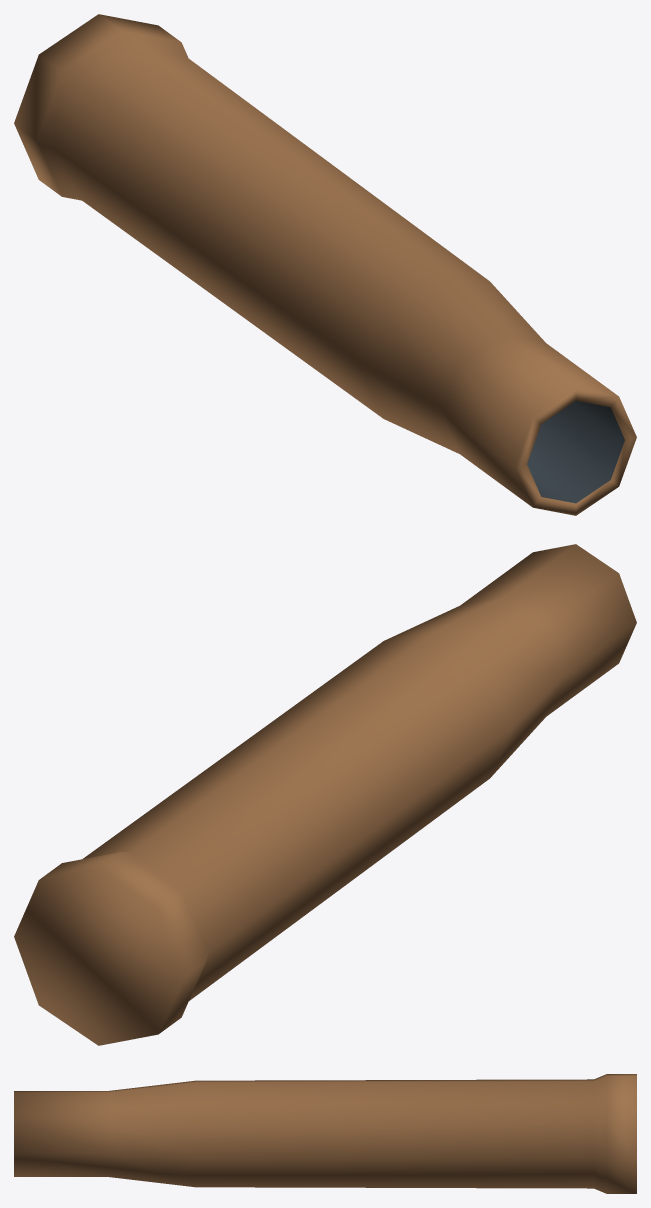
Rendered from cannon_30_case_game.glb.
3 renders of one model, top to bottom at view 1: azimuth 30°, elevation 25°; view 2: azimuth 150°, elevation 25°; view 3: azimuth 270°, elevation 25°, orthographic. The views are drawn at different scales.
Visible parts, largest first — view 1: AMMO_MESH.026; view 2: AMMO_MESH.026; view 3: AMMO_MESH.026.
Boxes of the visible parts, left/top/right/bottom form: AMMO_MESH.026: left=14, top=14, right=636, bottom=515; AMMO_MESH.026: left=14, top=544, right=636, bottom=1045; AMMO_MESH.026: left=14, top=1074, right=636, bottom=1193.
Bounding box in the file's own units: 0.042 × 0.042 × 0.2052.
